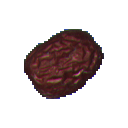gd: (16, 18, 119, 117)
